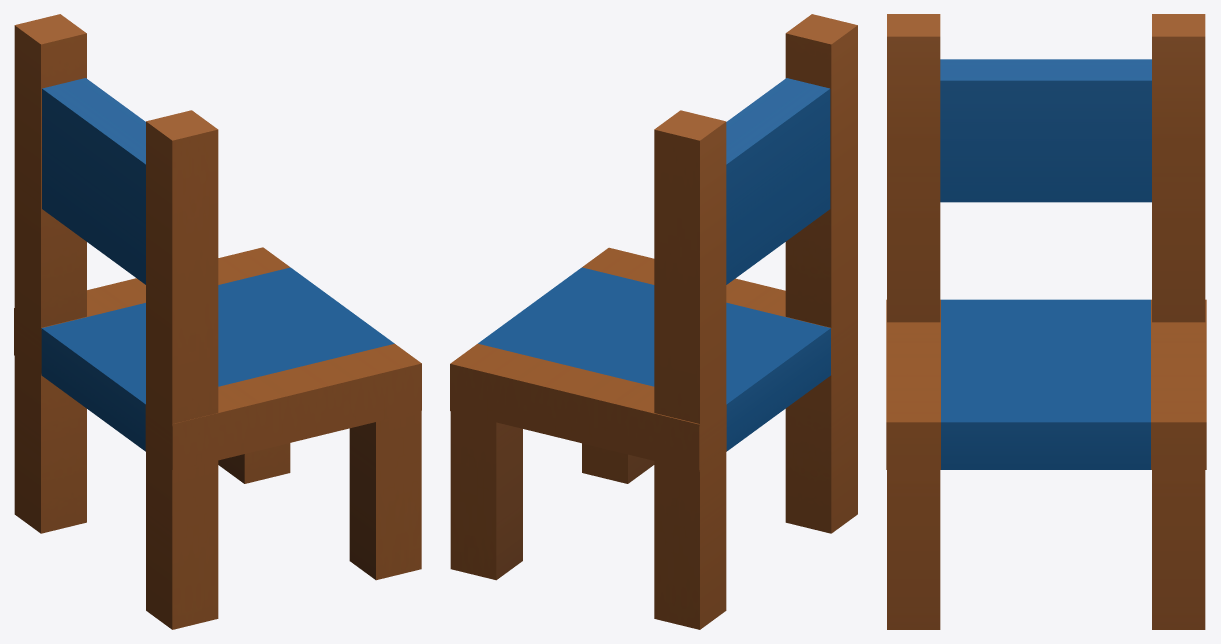
File: Chair.FBX
3 views of the same model, side by side, from view 1: azimuth 30°, elevation 25°; view 2: azimuth 150°, elevation 25°; view 3: azimuth 270°, elevation 25° (orthographic).
Visible parts, largest first — view 1: Chair; view 2: Chair; view 3: Chair.
Part boxes in pixels (x1,y1,x2,y2): Chair: [14, 14, 421, 629]; Chair: [450, 14, 857, 629]; Chair: [886, 14, 1206, 629].
Size of the model in its own units: 0.5442 by 1.02 by 0.6.
